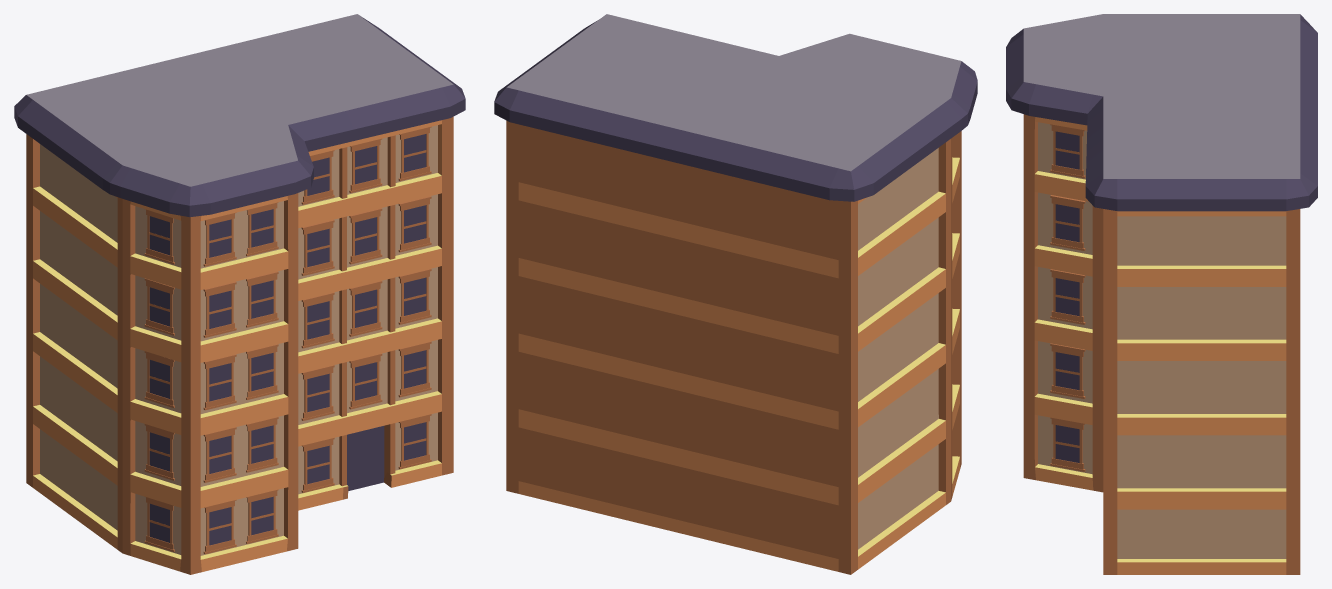
Rendered from building 3 - yellow.fbx.
The picture shows the model from 3 angles, left to right: view 1: azimuth 30°, elevation 25°; view 2: azimuth 150°, elevation 25°; view 3: azimuth 270°, elevation 25°; orthographic projection. The views are drawn at different scales.
Parts seen in each view (by area): view 1: pCube2, pasted__pCube14 (×29); view 2: pCube2; view 3: pCube2, pasted__pCube14 (×5).
Part boxes in pixels (x1,y1,x2,y2): pCube2: (14, 14, 465, 574); pasted__pCube14 (×29): (149, 134, 426, 545); pCube2: (494, 14, 977, 574); pCube2: (1006, 14, 1317, 574); pasted__pCube14 (×5): (1055, 131, 1079, 462).
Bounding box in the file's own units: 21.65 × 22.23 × 15.86.
